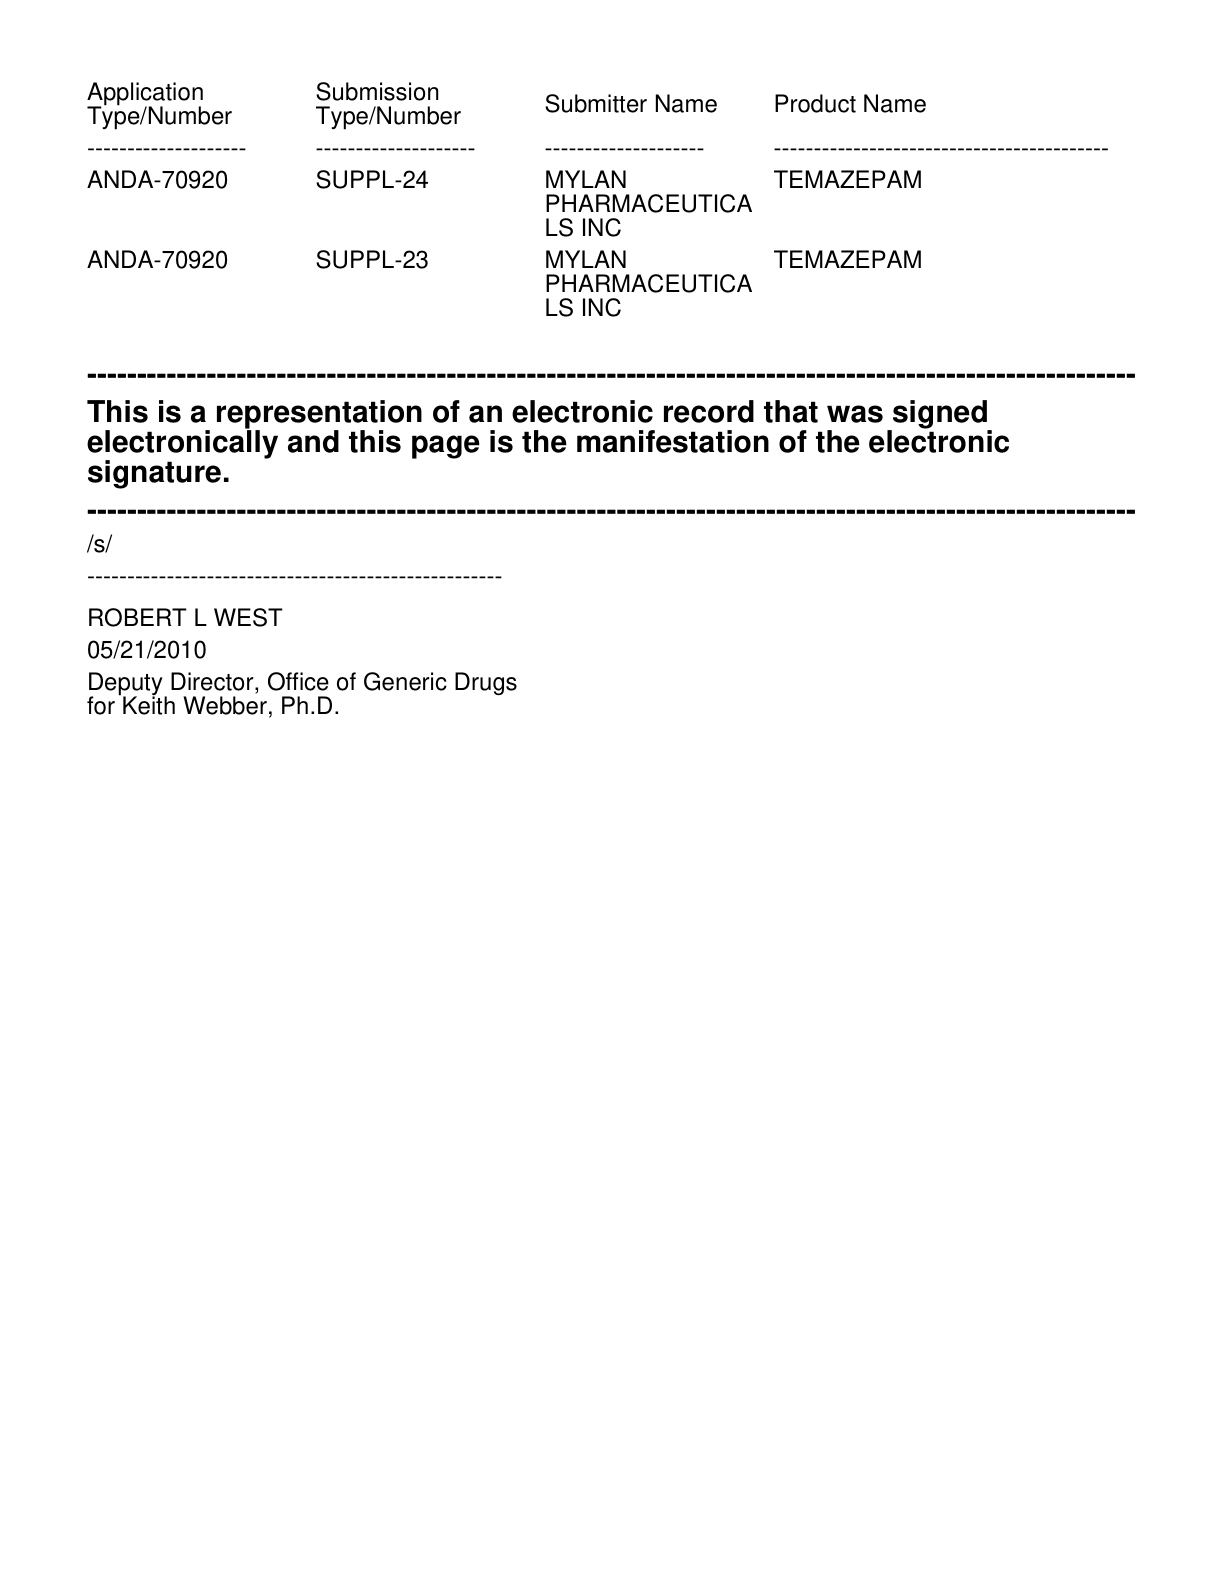nolines: (82, 76, 1110, 321)
